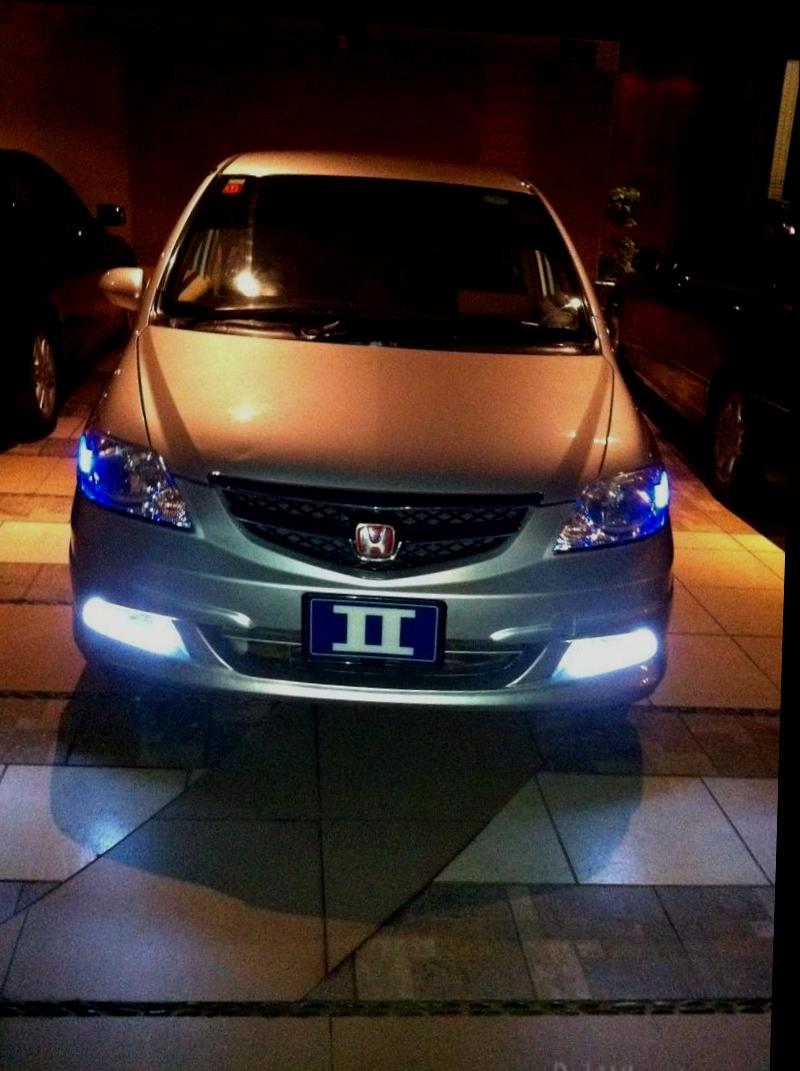License_Plate: (295, 581, 447, 676)
